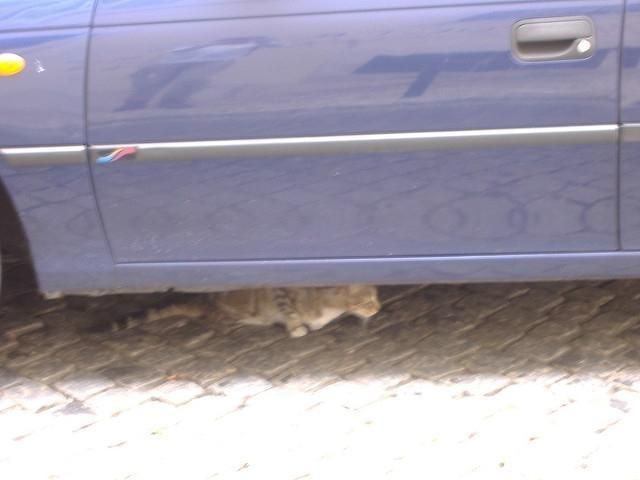car: (1, 0, 640, 304)
